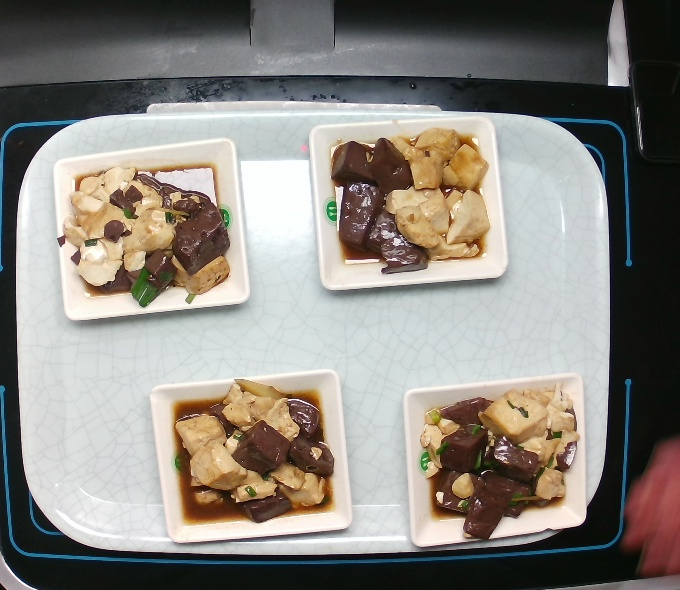wcq-DouFuMiuXue: (420, 386, 584, 545), (162, 378, 344, 521), (58, 158, 236, 299), (325, 130, 491, 273)
